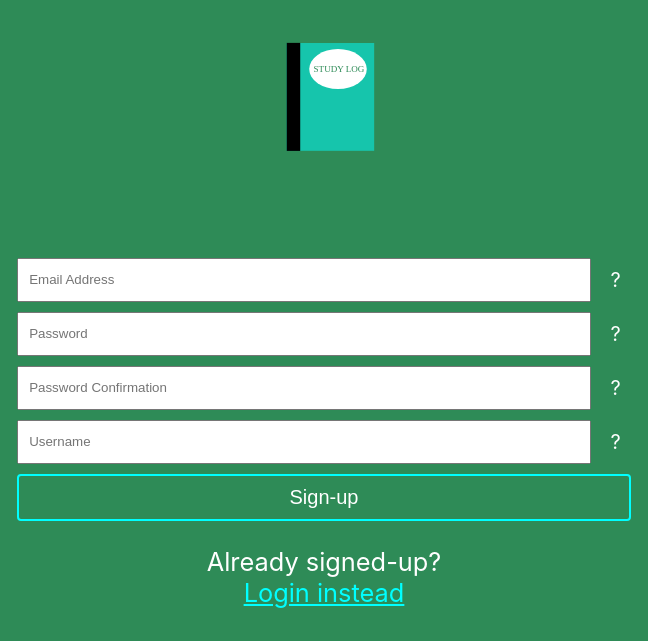
it: Sign-up Page › blocks failed registration when the password field is blank
This screenshot has width=648, height=641.
Step 1. Type "s.addict3@test.com" into the field with test id "email-input" → coordinates (304, 280), box [17,258,590,302]
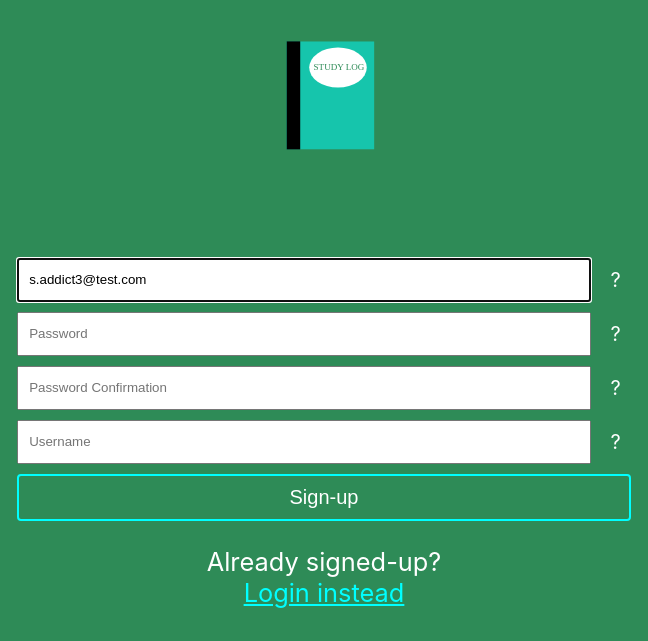
Step 2. Type "bookworm" into the password field with test id "password-confirmation-input" → coordinates (304, 388), box [17,366,590,410]
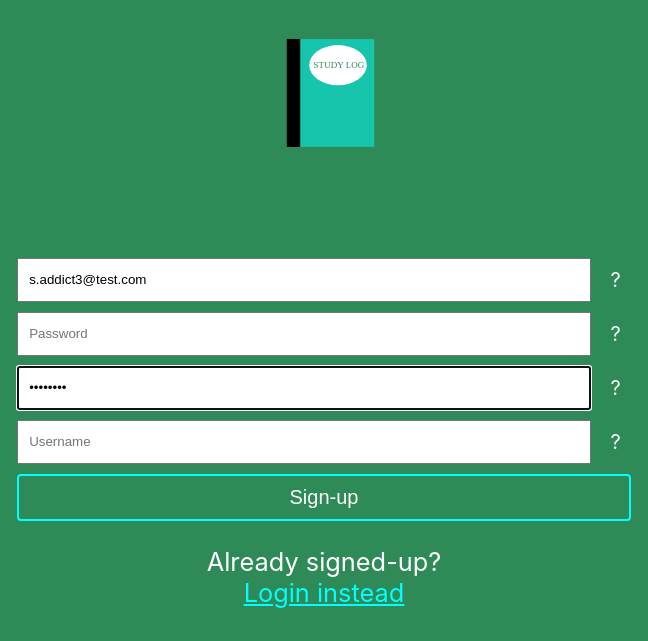
Step 3. Type "Studying Addict 3" into the field with test id "username-input" → coordinates (304, 442), box [17,420,590,464]
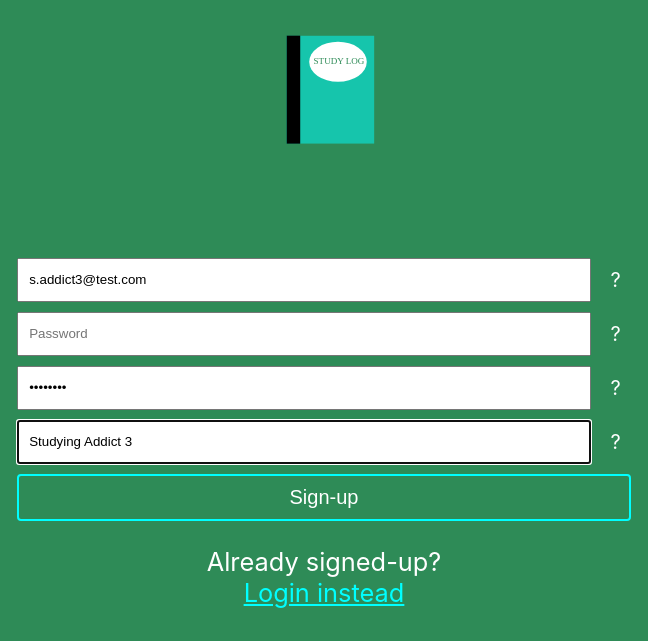
Step 4. Click the button "Sign-up" → coordinates (324, 498), box [17,474,631,521]
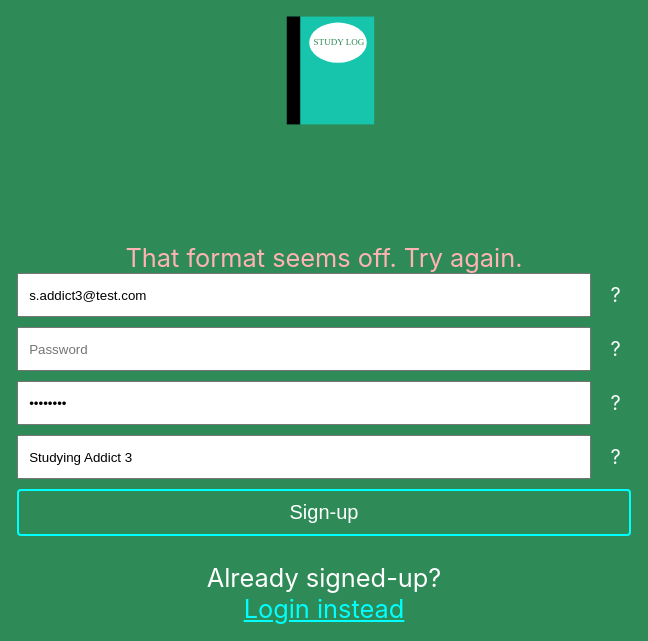
Check: the text "That format seems off. Try again." is shown, box [125,242,522,273]
